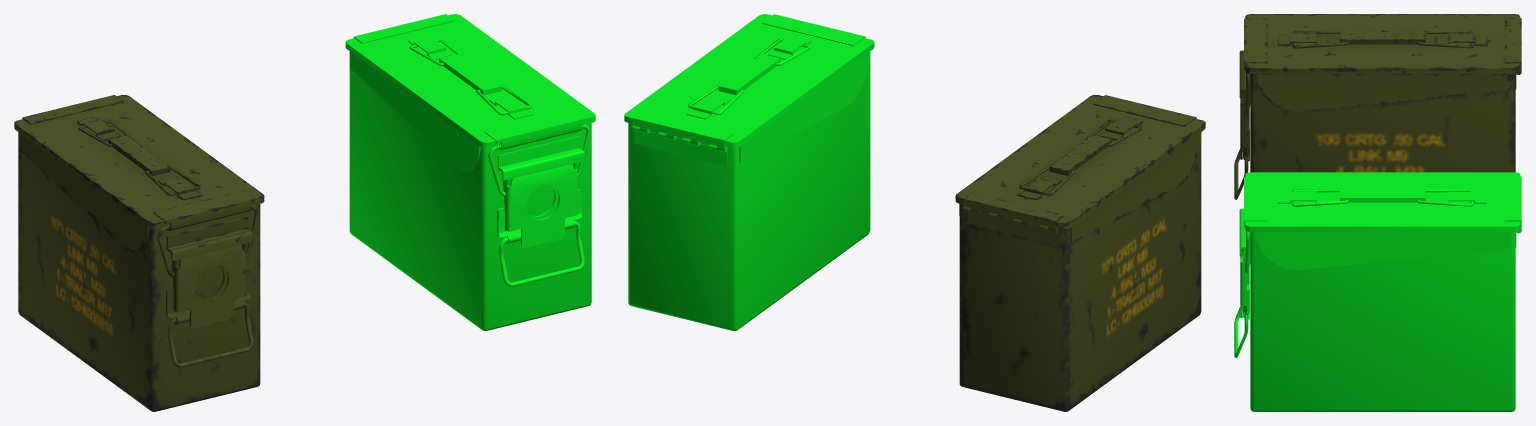
The model's file is AB_New_Old.fbx.
The picture shows the model from 3 angles, left to right: view 1: azimuth 30°, elevation 25°; view 2: azimuth 150°, elevation 25°; view 3: azimuth 270°, elevation 25°; orthographic projection. The views are drawn at different scales.
Parts seen in each view (by area): view 1: Box_LP; view 2: Box_LP; view 3: Box_LP.
Boxes of the visible parts, bbox=[...] form: Box_LP: bbox=[14, 14, 595, 411]; Box_LP: bbox=[624, 14, 1205, 411]; Box_LP: bbox=[1234, 14, 1521, 411].
Size of the model in its own units: 52.56 by 22.35 by 30.02.
